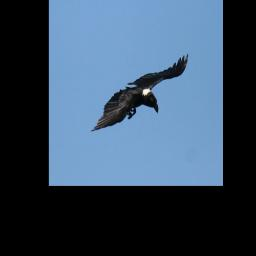Crow: (90, 52, 189, 132)
